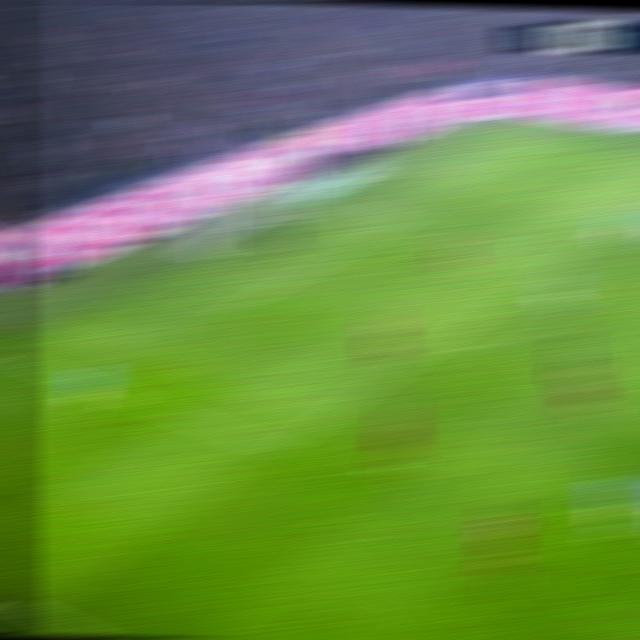bigarea_bottom_inner: (262, 440, 295, 455)
bigarea_top_outter: (410, 159, 439, 166)
corner: (498, 119, 528, 124)
smallarea_bottom_inner: (215, 300, 248, 316)
smallarea_bottom_outter: (139, 279, 170, 292)
smallarea_top_inner: (392, 212, 423, 225)
smallarea_top_outter: (326, 200, 354, 206)
top_arc_area_intersection: (546, 259, 574, 268)
